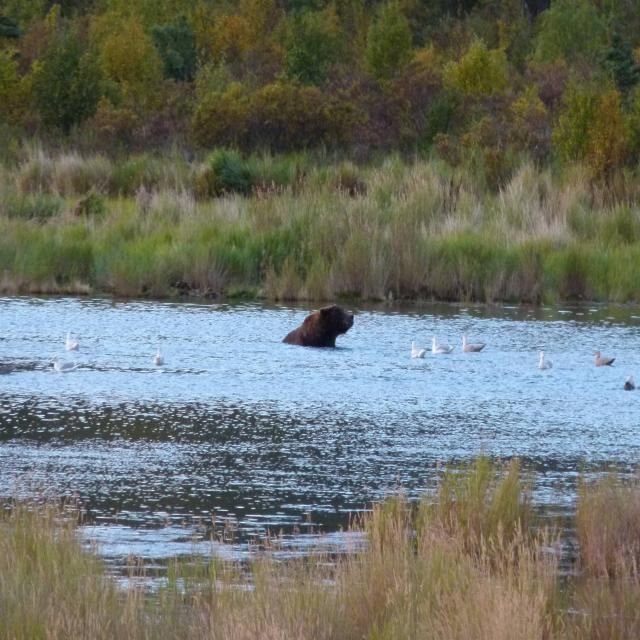bear face: (283, 306, 355, 347)
